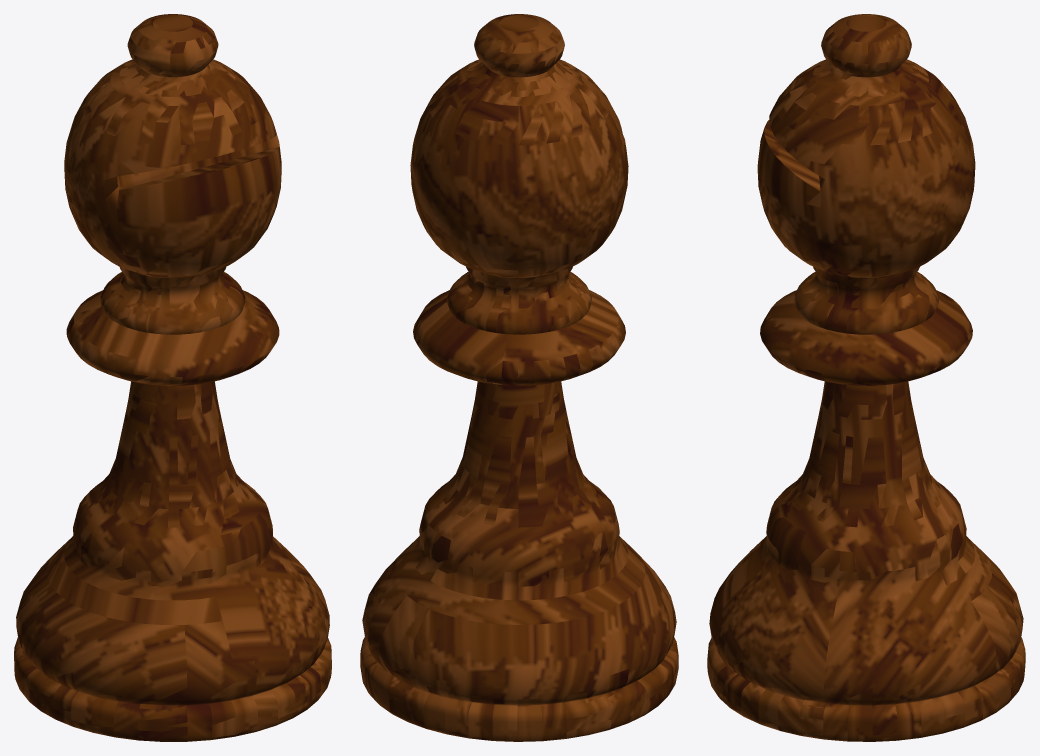
Rendered from alfilNegro.obj.
The picture shows the model from 3 angles, left to right: view 1: azimuth 30°, elevation 25°; view 2: azimuth 150°, elevation 25°; view 3: azimuth 270°, elevation 25°; orthographic projection.
Visible parts, largest first — view 1: body; view 2: body; view 3: body.
Boxes of the visible parts, x1=… form: body: x1=14, y1=14, x2=331, y2=741; body: x1=360, y1=14, x2=678, y2=741; body: x1=707, y1=14, x2=1025, y2=741.
Size of the model in its own units: 1.57 by 3.57 by 1.57.
1 material, 1 textured.
